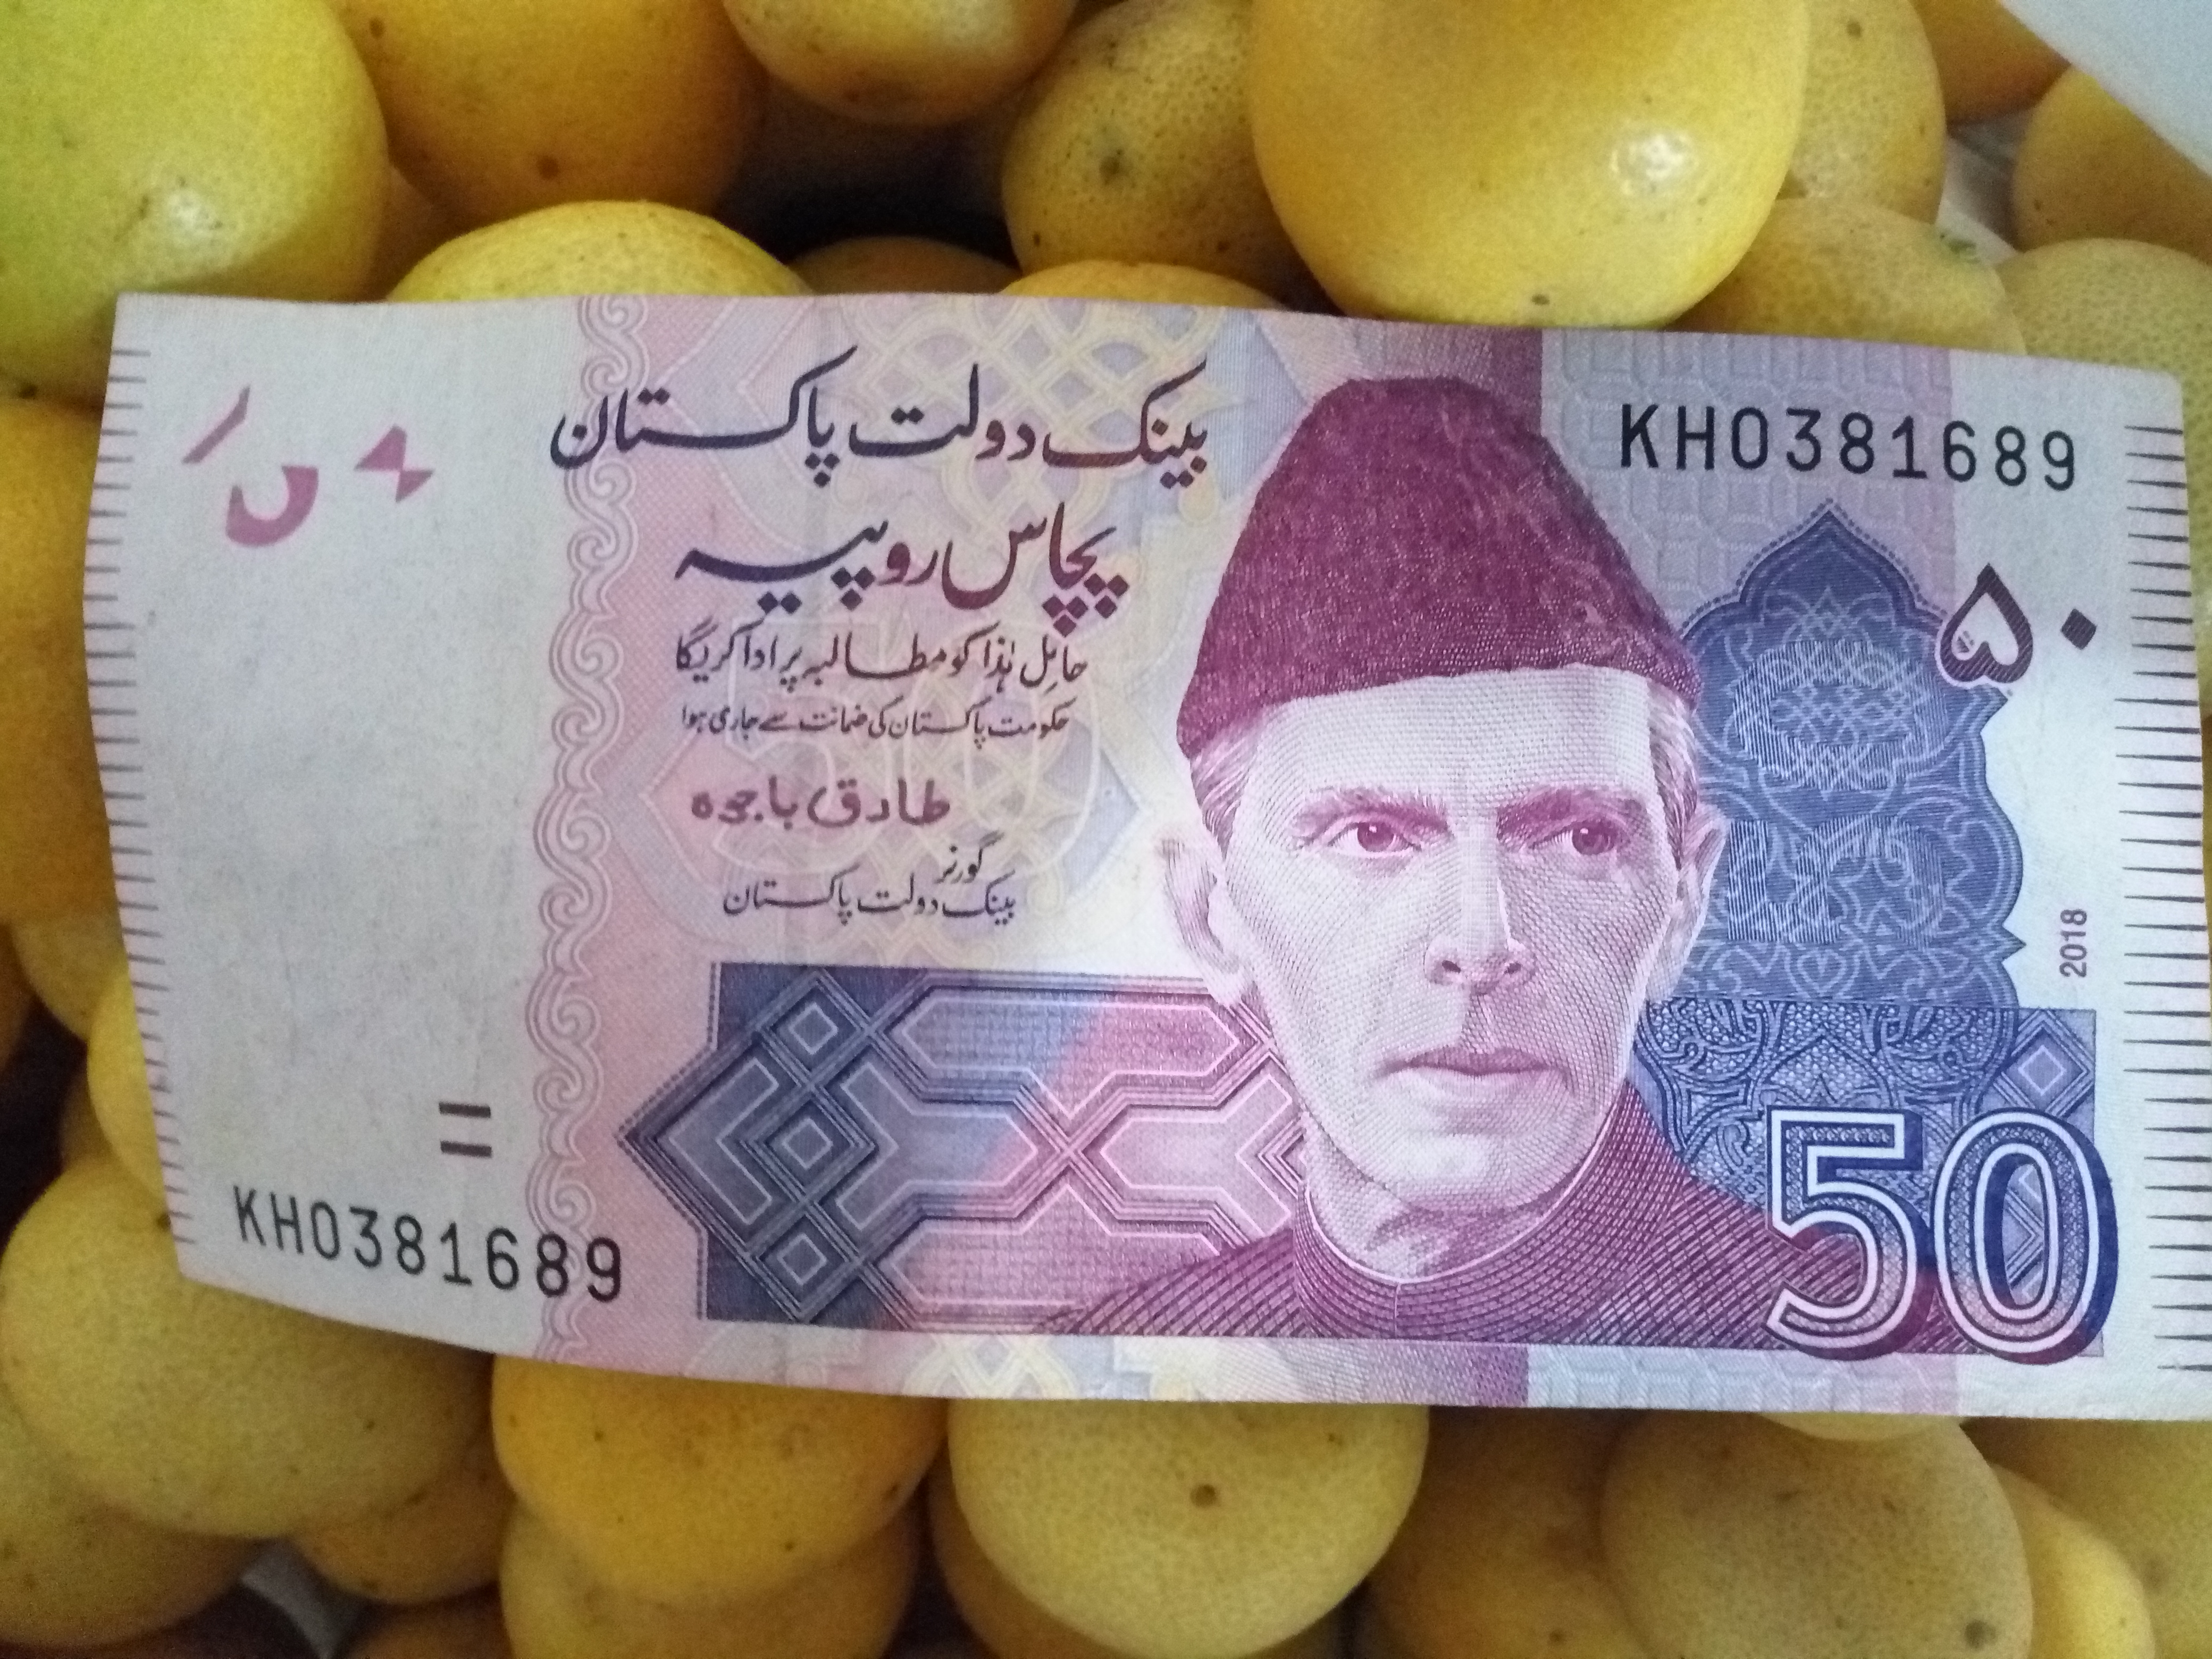50 rupee: (96, 247, 2189, 1439)
